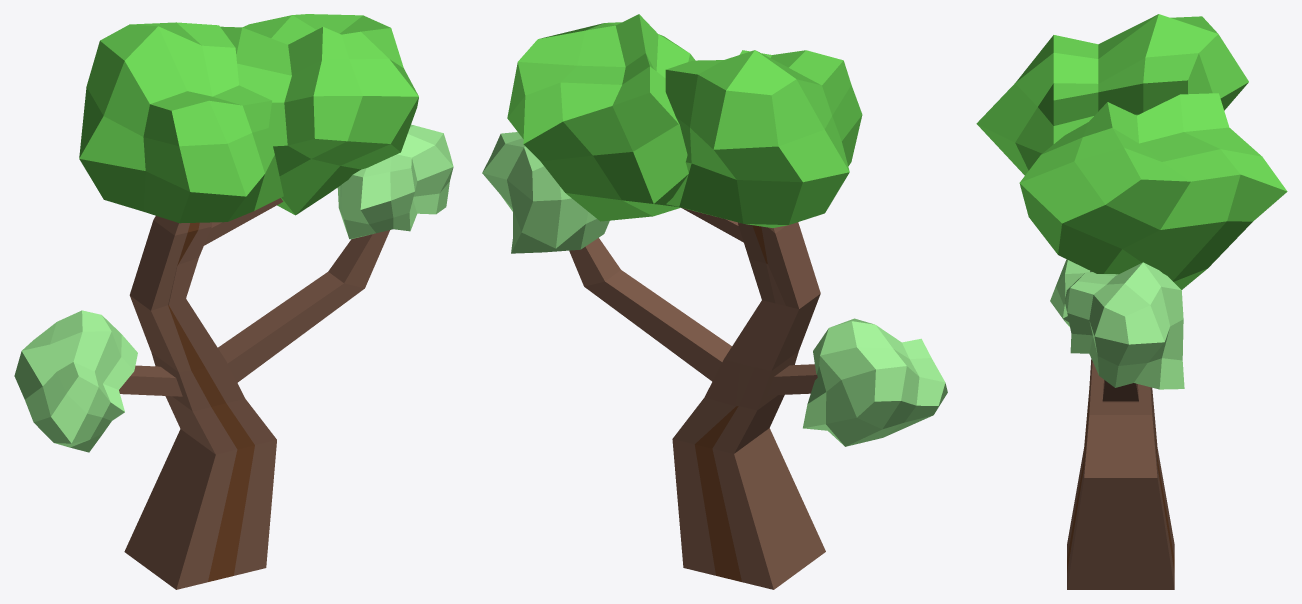
The model's file is TreeModel_1.fbx.
3 renders of one model, left to right at view 1: azimuth 30°, elevation 25°; view 2: azimuth 150°, elevation 25°; view 3: azimuth 270°, elevation 25°, orthographic. The views are drawn at different scales.
Visible parts, largest first — view 1: Cube.003; view 2: Cube.003; view 3: Cube.003.
Part boxes in pixels (x1,y1,x2,y2): Cube.003: (14,14,453,589); Cube.003: (482,14,947,589); Cube.003: (976,14,1287,589).
Bounding box in the file's own units: 768 × 894 × 464.
